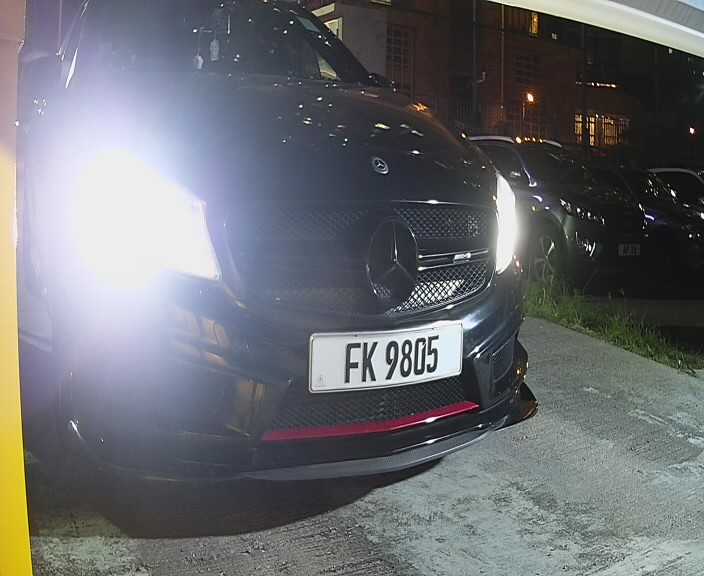Car: (22, 8, 547, 506)
License Plate: (304, 312, 472, 405)
